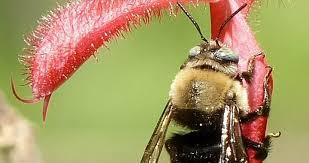Xylocopa: (146, 0, 274, 163)
